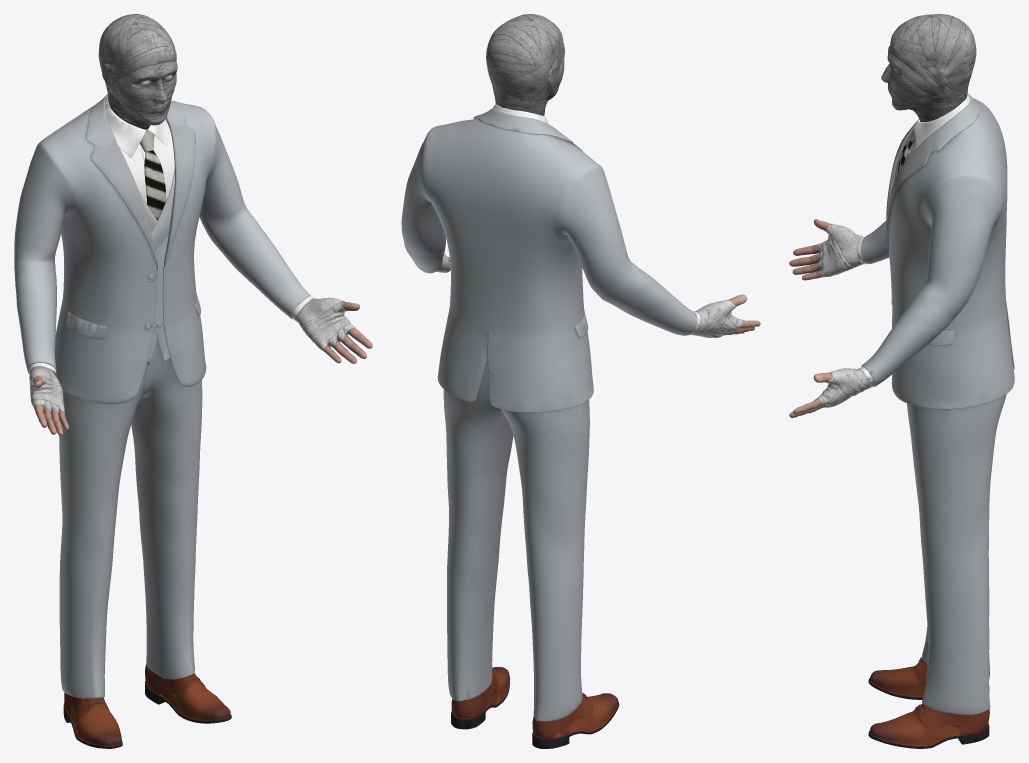
File: Arthur-v2.glb
3 views of the same model, side by side, from view 1: azimuth 30°, elevation 25°; view 2: azimuth 150°, elevation 25°; view 3: azimuth 270°, elevation 25° (orthographic).
Parts seen in each view (by area): view 1: Arthur (×2); view 2: Arthur (×2); view 3: Arthur (×2).
Part boxes in pixels (box(x1,y1,x2,y2)): Arthur (×2): box(14, 14, 372, 748); Arthur (×2): box(401, 14, 760, 748); Arthur (×2): box(789, 14, 1014, 748).
Size of the model in its own units: 0.8324 by 1.68 by 0.4917.
Materials: 2 (2 with a texture image).
